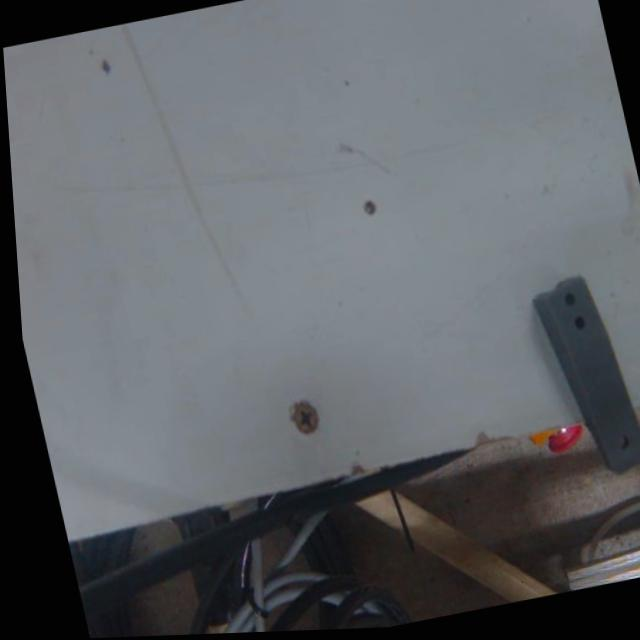grey: (526, 268, 640, 487)
head: (613, 432, 633, 451)
